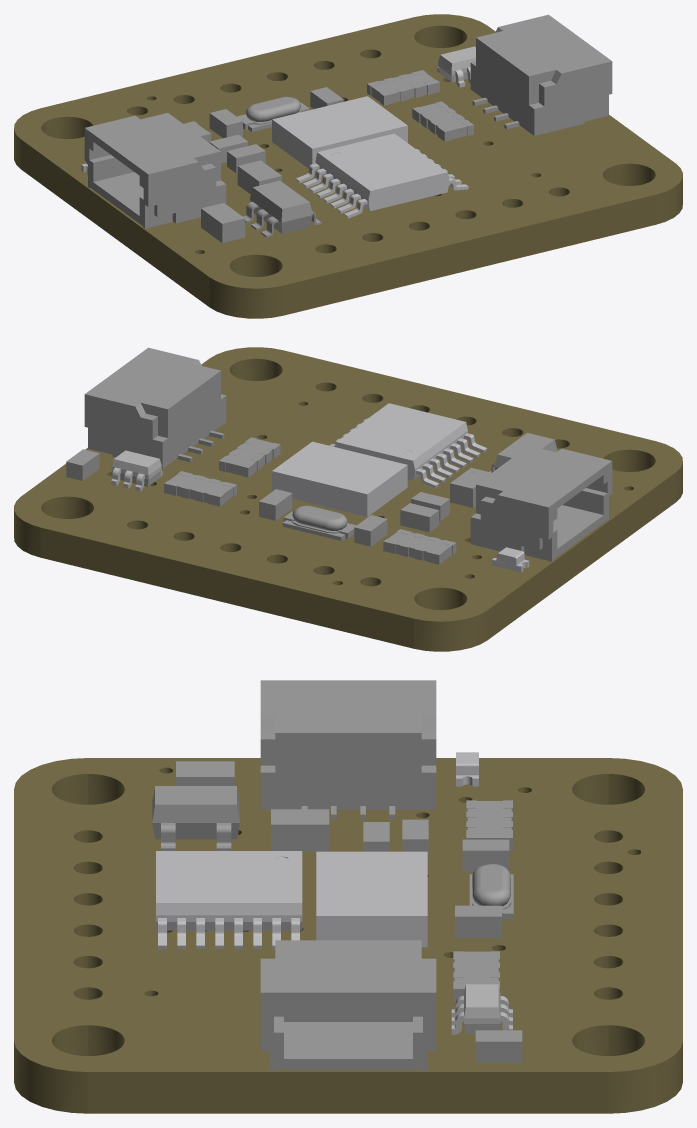
Rendered from ada-4754.glb.
3 renders of one model, top to bottom at view 1: azimuth 30°, elevation 25°; view 2: azimuth 150°, elevation 25°; view 3: azimuth 270°, elevation 25°, orthographic. The views are drawn at different scales.
Parts seen in each view (by area): view 1: 0.16666666666666666_0.16666666666666666_0.08333333333333333_, 0.3333333333333333_0.3333333333333333_0.3333333333333333_0, 0.5833333333333334_0.5833333333333334_0.5833333333333334_0.8, 0.5_0.5_0.5_0.85; view 2: 0.16666666666666666_0.16666666666666666_0.08333333333333333_, 0.3333333333333333_0.3333333333333333_0.3333333333333333_0, 0.5833333333333334_0.5833333333333334_0.5833333333333334_0.8, 0.5_0.5_0.5_0.85; view 3: 0.16666666666666666_0.16666666666666666_0.08333333333333333_, 0.3333333333333333_0.3333333333333333_0.3333333333333333_0, 0.5833333333333334_0.5833333333333334_0.5833333333333334_0.8, 0.5_0.5_0.5_0.85.
Boxes of the visible parts, left/top/right/bottom form: 0.16666666666666666_0.16666666666666666_0.08333333333333333_: left=14, top=14, right=682, bottom=318; 0.3333333333333333_0.3333333333333333_0.3333333333333333_0: left=84, top=14, right=612, bottom=242; 0.5833333333333334_0.5833333333333334_0.5833333333333334_0.8: left=81, top=96, right=468, bottom=218; 0.5_0.5_0.5_0.85: left=437, top=46, right=475, bottom=87; 0.16666666666666666_0.16666666666666666_0.08333333333333333_: left=14, top=347, right=682, bottom=651; 0.3333333333333333_0.3333333333333333_0.3333333333333333_0: left=66, top=347, right=612, bottom=564; 0.5833333333333334_0.5833333333333334_0.5833333333333334_0.8: left=272, top=403, right=529, bottom=572; 0.5_0.5_0.5_0.85: left=111, top=450, right=162, bottom=491; 0.16666666666666666_0.16666666666666666_0.08333333333333333_: left=14, top=758, right=682, bottom=1113; 0.3333333333333333_0.3333333333333333_0.3333333333333333_0: left=152, top=680, right=522, bottom=1070; 0.5833333333333334_0.5833333333333334_0.5833333333333334_0.8: left=156, top=752, right=478, bottom=949; 0.5_0.5_0.5_0.85: left=451, top=984, right=512, bottom=1034.
Size of the model in its own units: 2.54 by 0.4529 by 2.29.
